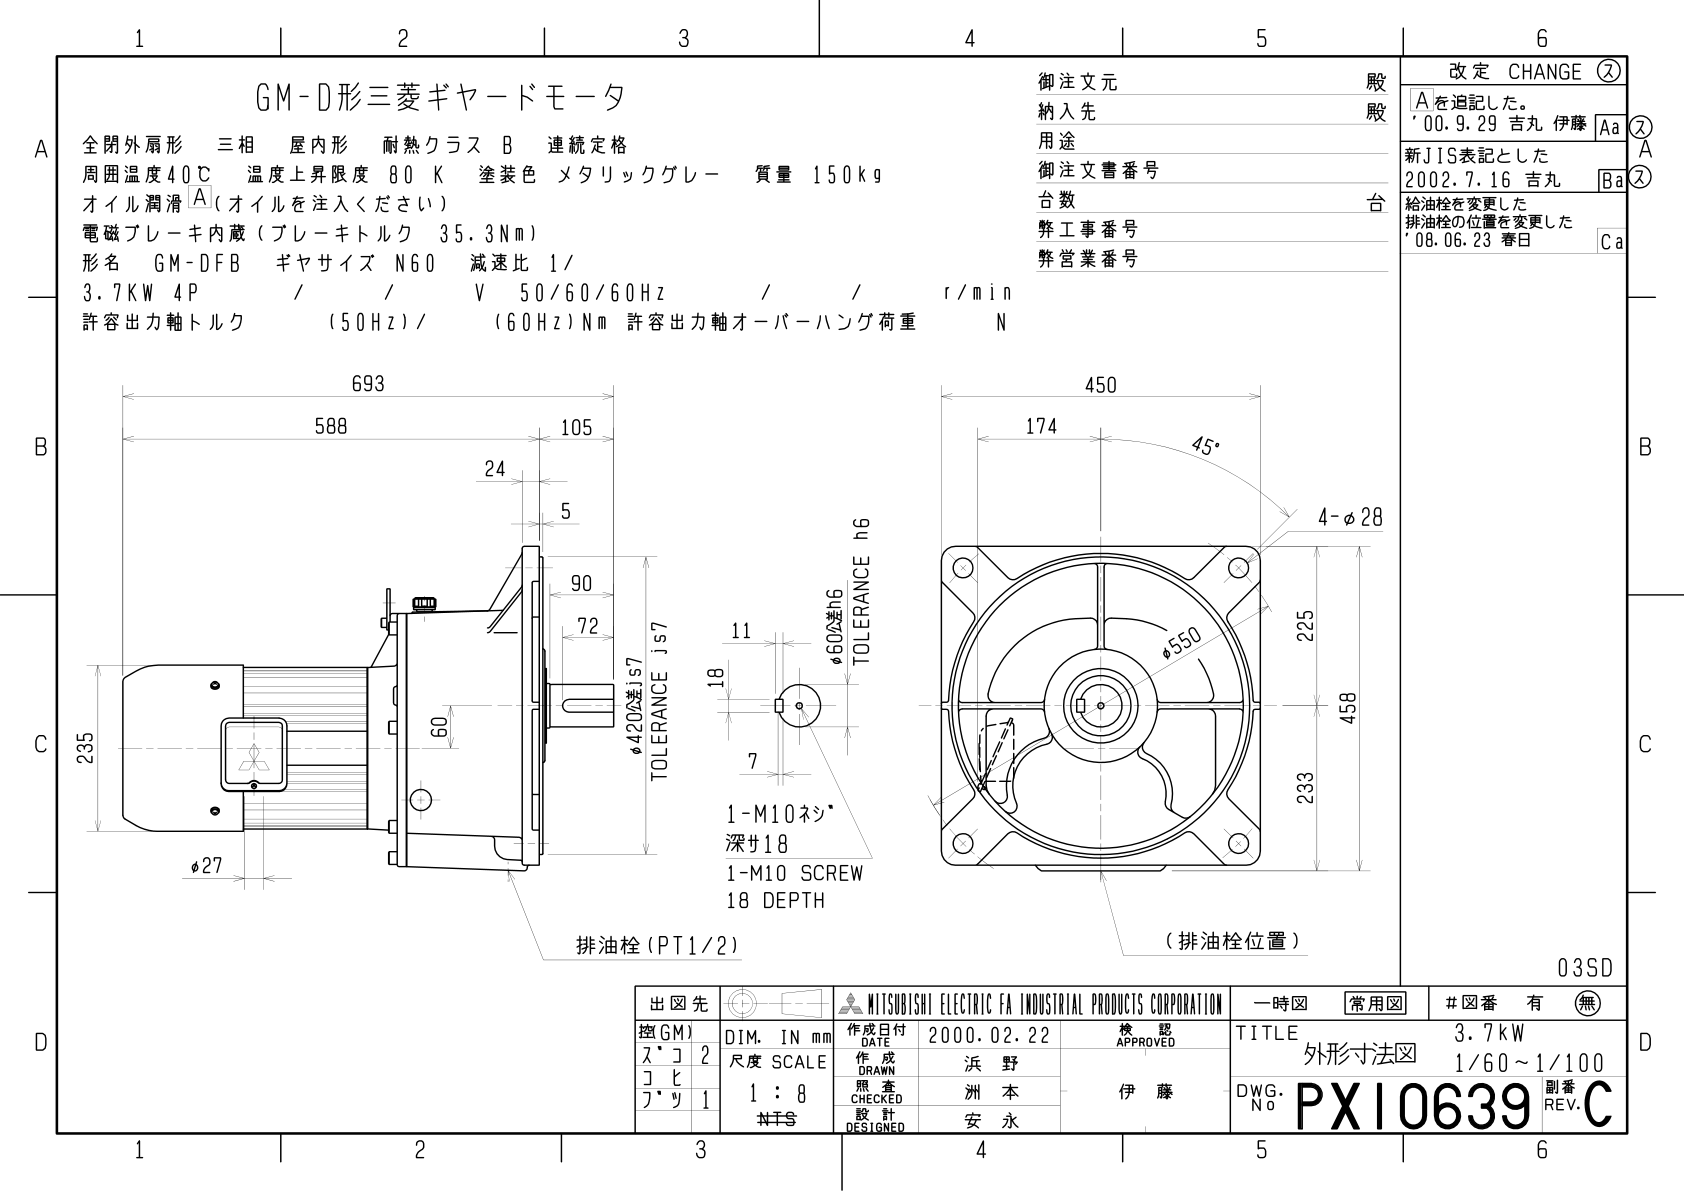GM_D_屋内＿三相_フランジ: (1, 1, 1680, 1176)
